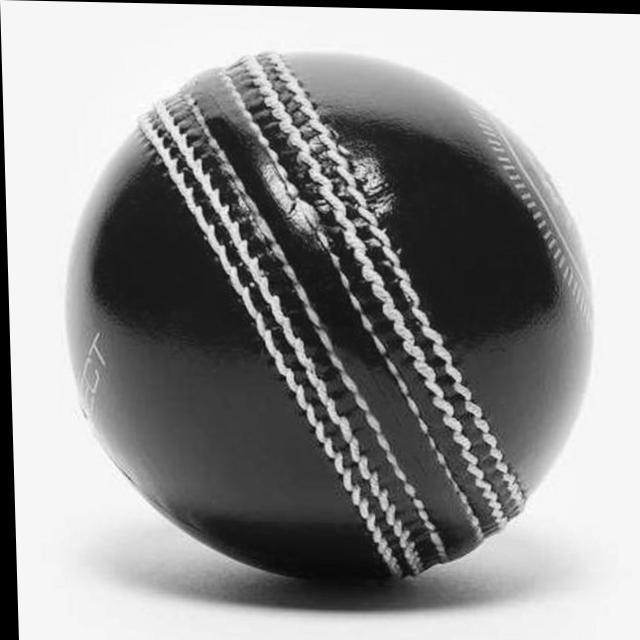cricket ball: (62, 48, 593, 581)
